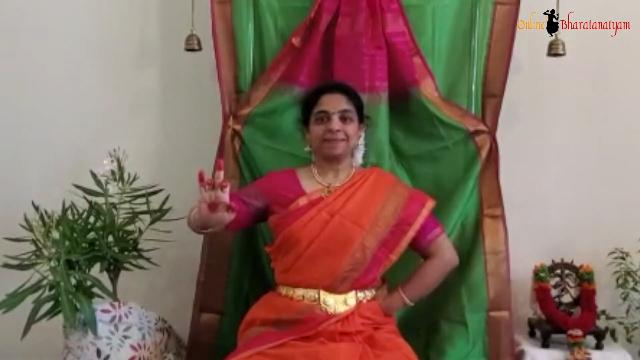shuktund: (174, 141, 254, 248)
